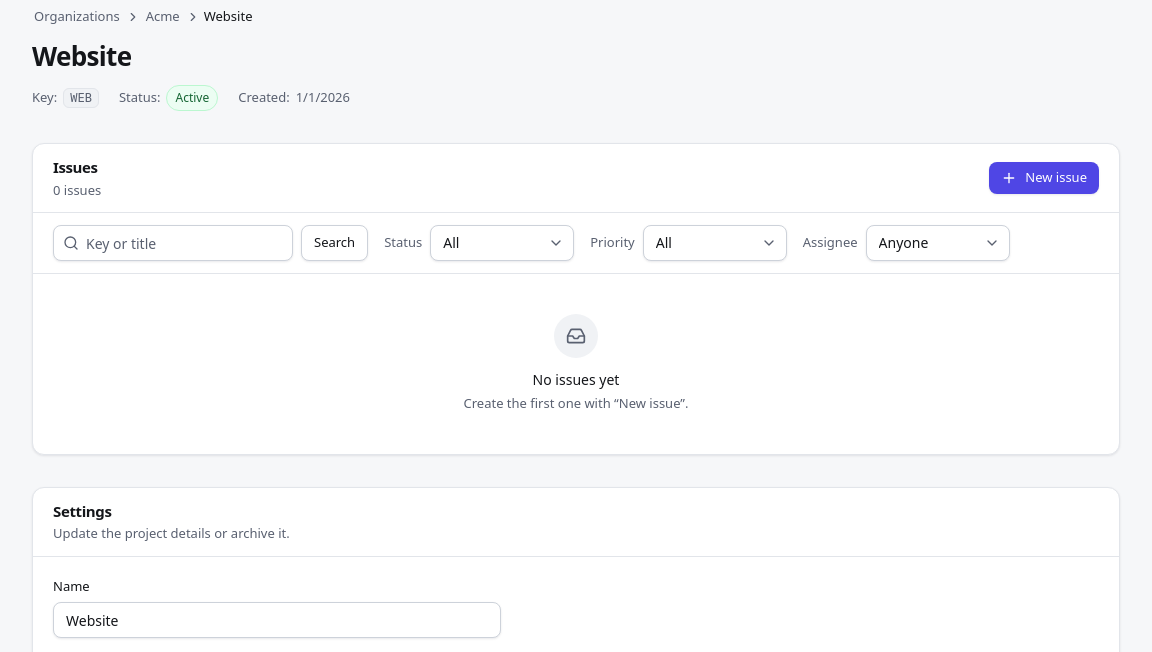
it: ProjectOverview › saves edits and surfaces server errors
This screenshot has width=1152, height=652.
Replace the text in the field labelled "Name" with "Site" at (277, 620), box [53,602,501,638]
(page scrolled)
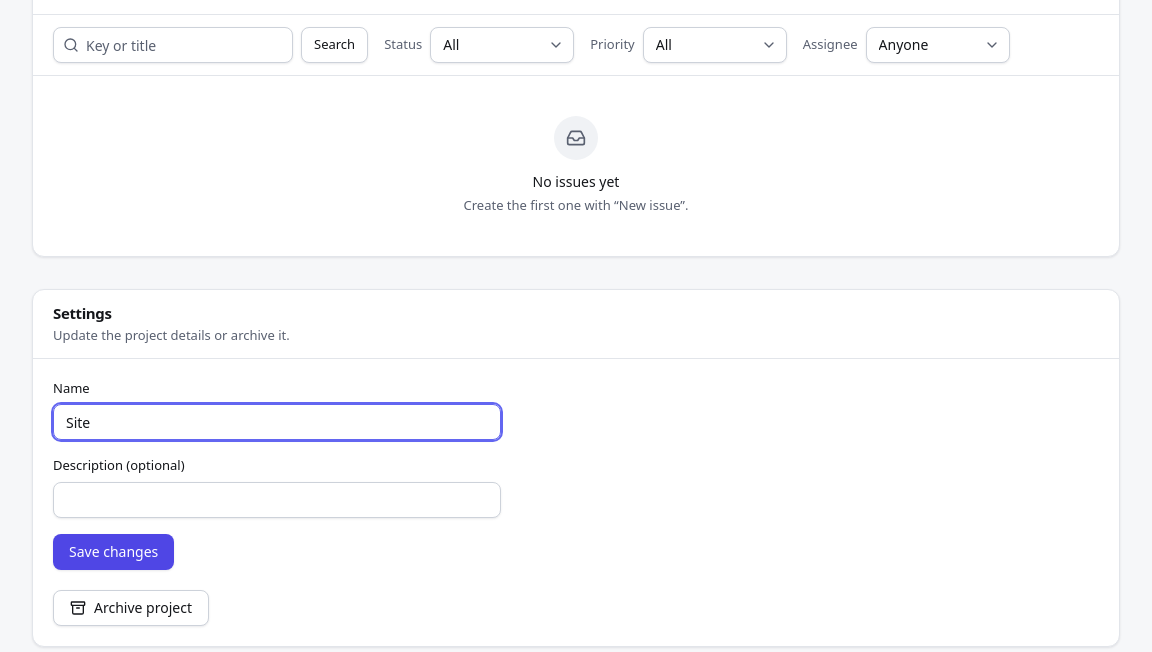
Click the button "Save changes".
click(114, 552)  # box [53,534,174,570]
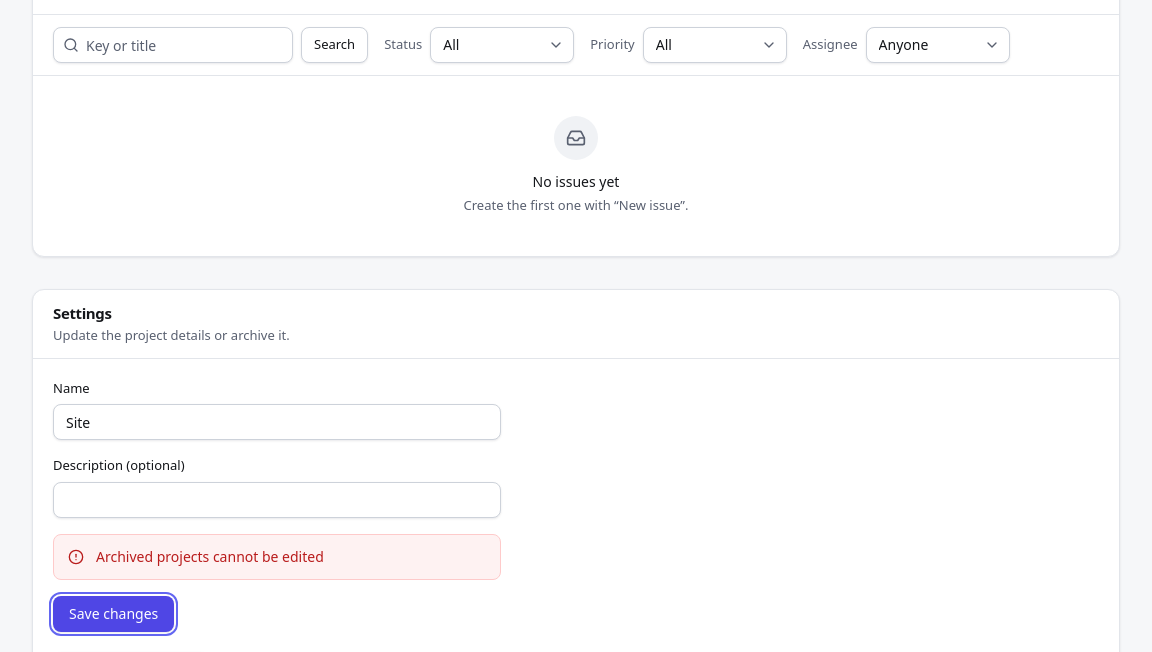
expect the message reads "Archived projects cannot be edited": met, box [96,547,324,566]
